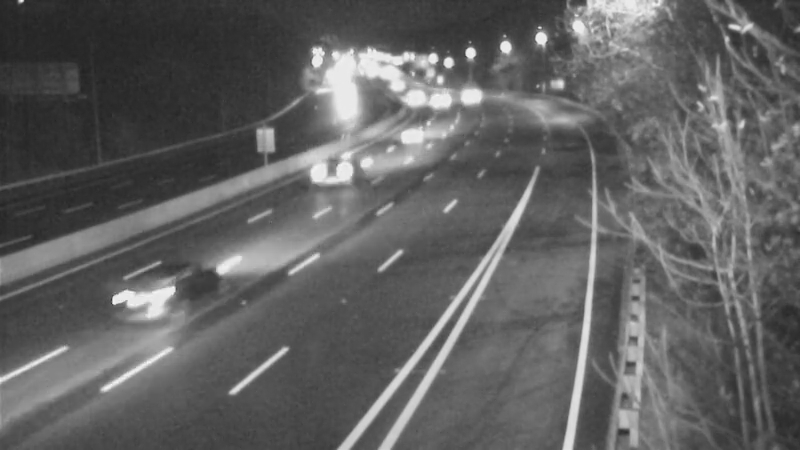vehicle: (294, 126, 374, 206), (109, 260, 189, 340), (440, 71, 490, 121), (387, 75, 437, 125), (412, 78, 462, 128), (389, 109, 439, 159), (322, 78, 372, 128)
